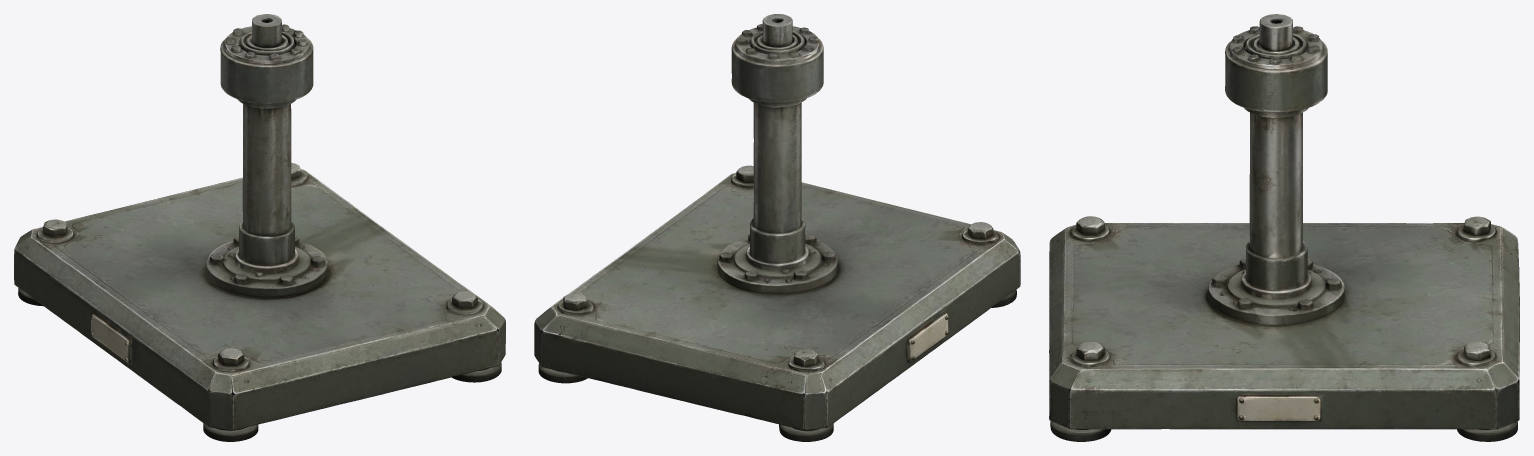
3 views of the same model, side by side, from view 1: azimuth 30°, elevation 25°; view 2: azimuth 150°, elevation 25°; view 3: azimuth 270°, elevation 25° (orthographic). The views are drawn at different scales.
Visible parts, largest first — view 1: tripo_node_f193c4c0-2af2-484d-b20c-7a4c447e5107; view 2: tripo_node_f193c4c0-2af2-484d-b20c-7a4c447e5107; view 3: tripo_node_f193c4c0-2af2-484d-b20c-7a4c447e5107.
Boxes of the visible parts, left/top/right/bottom form: tripo_node_f193c4c0-2af2-484d-b20c-7a4c447e5107: left=14, top=14, right=505, bottom=441; tripo_node_f193c4c0-2af2-484d-b20c-7a4c447e5107: left=534, top=14, right=1020, bottom=441; tripo_node_f193c4c0-2af2-484d-b20c-7a4c447e5107: left=1049, top=14, right=1519, bottom=441.
Size of the model in its own units: 0.7993 by 0.7845 by 0.9693.
Materials: 1 (1 with a texture image).
